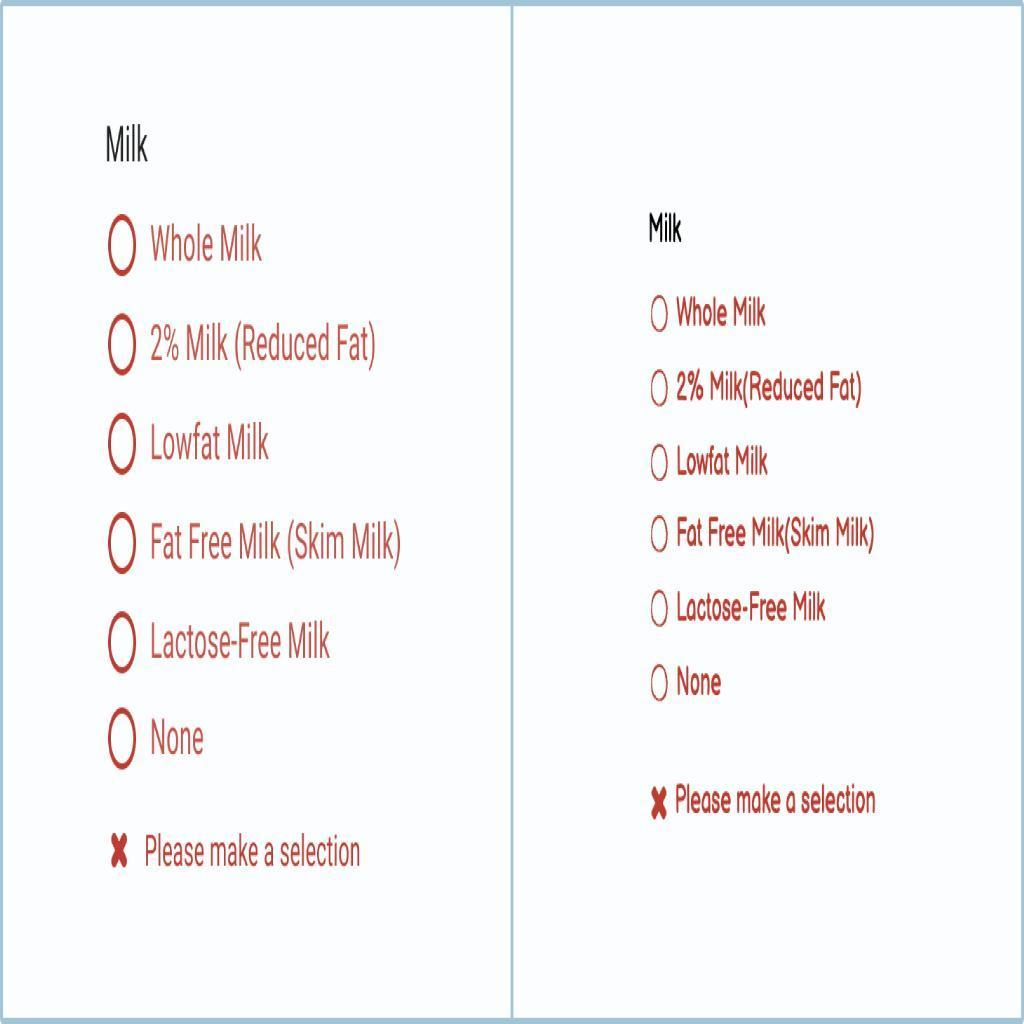radio: (103, 700, 141, 782), (108, 503, 142, 588), (107, 210, 140, 287), (107, 607, 139, 684), (107, 308, 140, 382), (108, 409, 139, 476), (647, 582, 672, 635), (651, 359, 672, 417), (651, 287, 671, 347), (647, 514, 672, 562), (650, 437, 672, 490), (650, 663, 671, 713)
